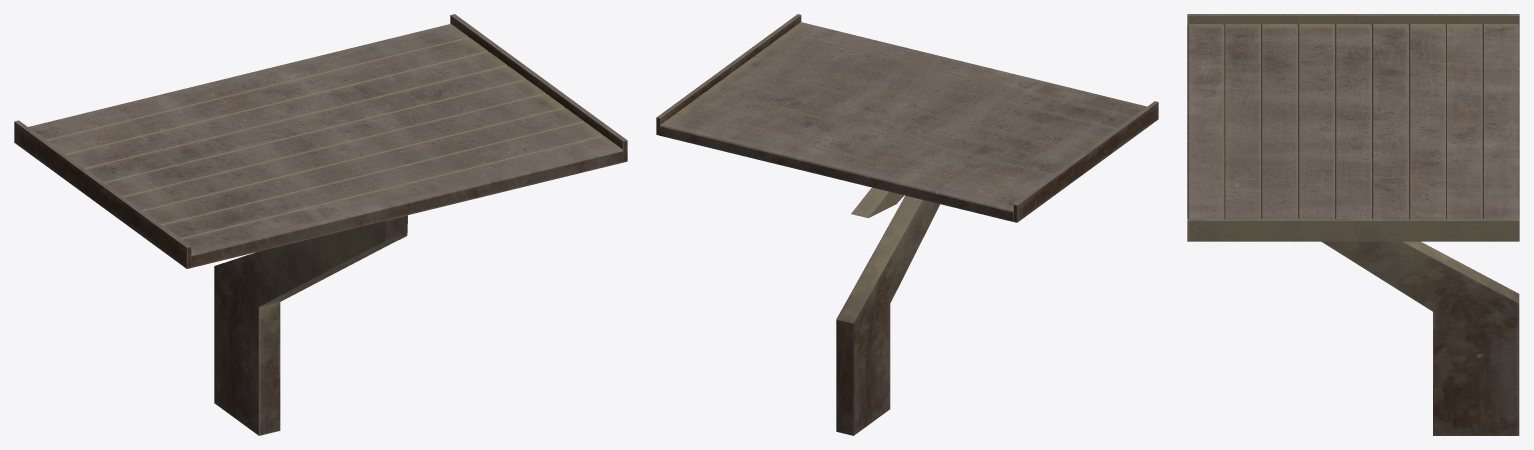
Rendered from Altar.fbx.
The picture shows the model from 3 angles, left to right: view 1: azimuth 30°, elevation 25°; view 2: azimuth 150°, elevation 25°; view 3: azimuth 270°, elevation 25°; orthographic projection. The views are drawn at different scales.
Visible parts, largest first — view 1: Cube.026; view 2: Cube.026; view 3: Cube.026.
Part boxes in pixels (box(x1,y1,x2,y2)): Cube.026: box(14, 14, 627, 435); Cube.026: box(656, 14, 1158, 435); Cube.026: box(1187, 14, 1519, 435).
Size of the model in its own units: 40.67 by 29.14 by 27.61.
1 material, 1 textured.
